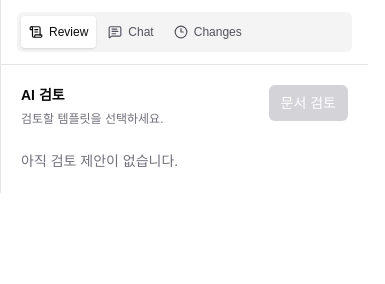
it: AiWorkspacePanel › shows English change-history loading and retry states
The image size is (385, 284).
Click the tab "Changes": (208, 32) [166,16,250,48]
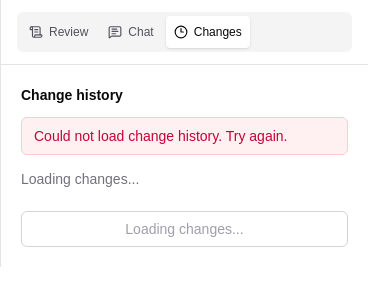
Expected: the message "Could not load change history. Try again." is shown, [21,117,348,155]
Expected: the button "Loading changes..." is disabled, [21,211,348,247]
